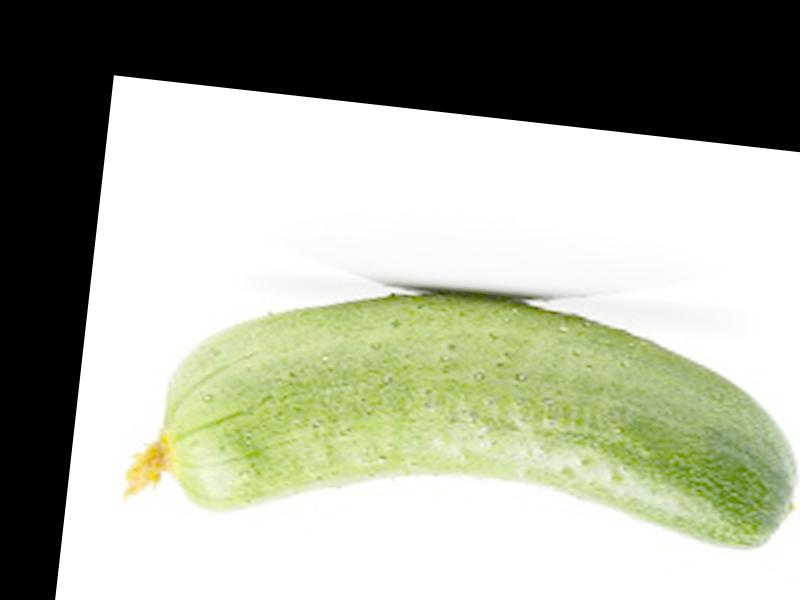Cucumber: (116, 256, 800, 578)
